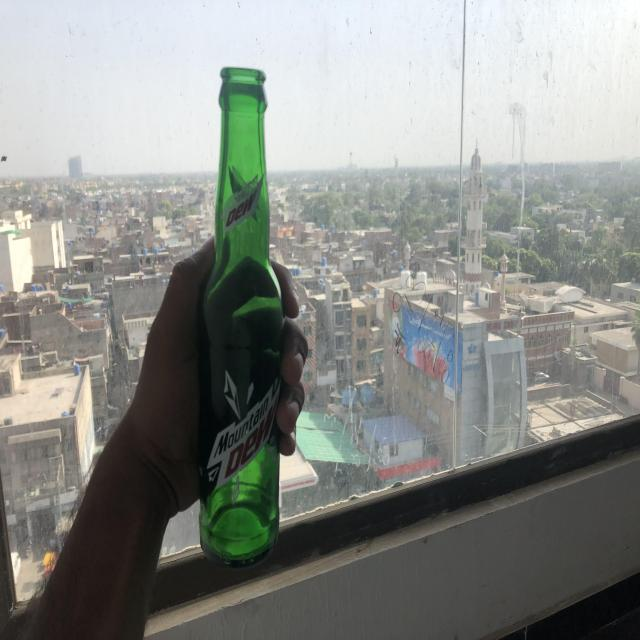bottle-glass: (200, 64, 286, 570)
